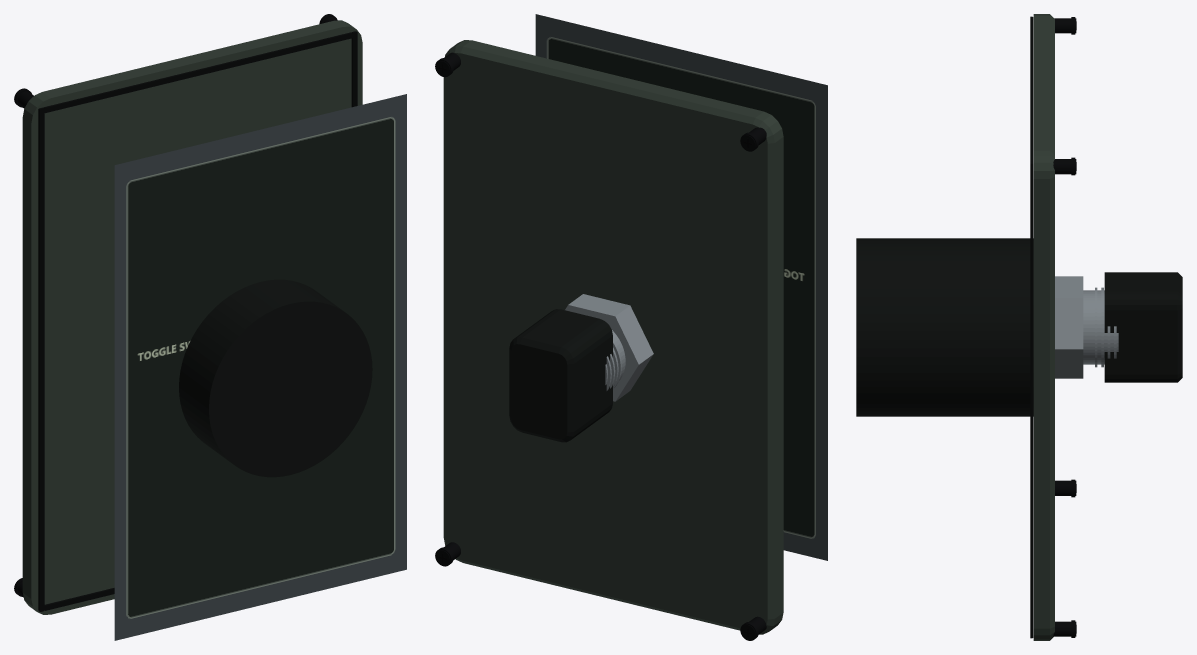
Rendered from MFDStudio.obj.
3 renders of one model, left to right at view 1: azimuth 30°, elevation 25°; view 2: azimuth 150°, elevation 25°; view 3: azimuth 270°, elevation 25°, orthographic. The views are drawn at different scales.
Visible parts, largest first — view 1: MFDStudioScreen, MFDStudioBody, MFDStudioMount; view 2: MFDStudioBody, MFDStudioScreen, MFDStudioActuator, MFDStudioMount, MFDStudioScrews; view 3: MFDStudioMount, MFDStudioBody, MFDStudioActuator, MFDStudioScrews.
Boxes of the visible parts, x1=… form: MFDStudioScreen: x1=114, y1=94, x2=406, y2=640; MFDStudioBody: x1=22, y1=20, x2=362, y2=614; MFDStudioMount: x1=179, y1=279, x2=372, y2=477; MFDStudioBody: x1=443, y1=40, x2=783, y2=634; MFDStudioScreen: x1=535, y1=14, x2=827, y2=560; MFDStudioActuator: x1=509, y1=309, x2=612, y2=442; MFDStudioMount: x1=565, y1=294, x2=653, y2=401; MFDStudioScrews: x1=435, y1=52, x2=766, y2=640; MFDStudioMount: x1=856, y1=238, x2=1118, y2=416; MFDStudioBody: x1=1030, y1=14, x2=1054, y2=640; MFDStudioActuator: x1=1104, y1=272, x2=1182, y2=382; MFDStudioScrews: x1=1053, y1=17, x2=1076, y2=637.
Bounding box in the file's own units: 0.051 × 0.076 × 0.046.
Materials: 7 (1 with a texture image).
